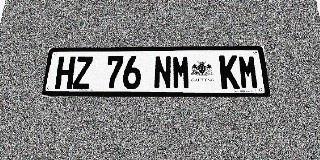6: (123, 56, 141, 89)
7: (104, 56, 124, 89)
H: (54, 56, 76, 89)
K: (219, 55, 240, 89)
M: (238, 55, 259, 89), (172, 56, 191, 89)
N: (154, 56, 172, 89)
Z: (72, 56, 93, 89)
